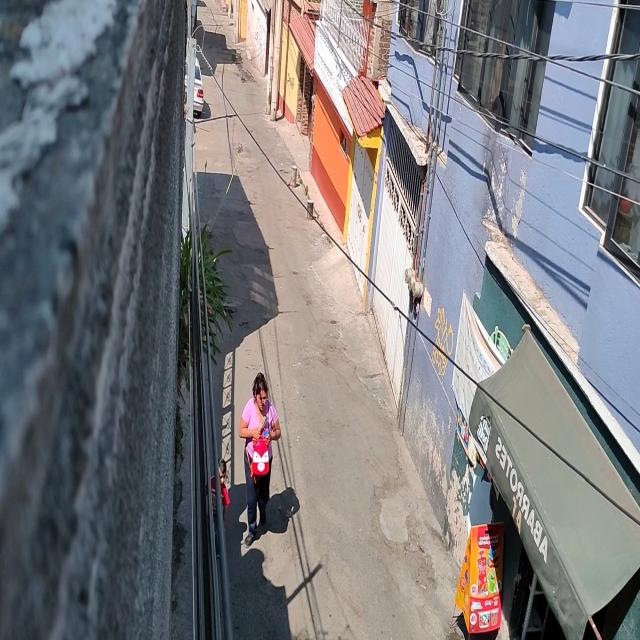adult: (239, 370, 281, 546)
